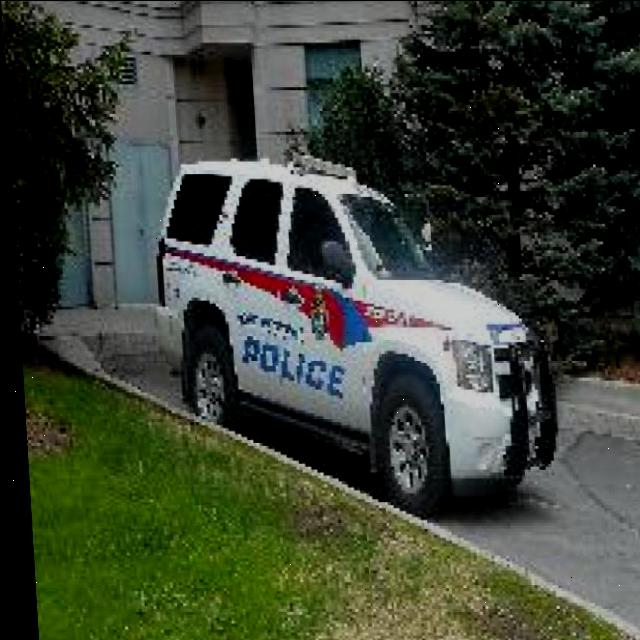emergency: (139, 149, 560, 517)
